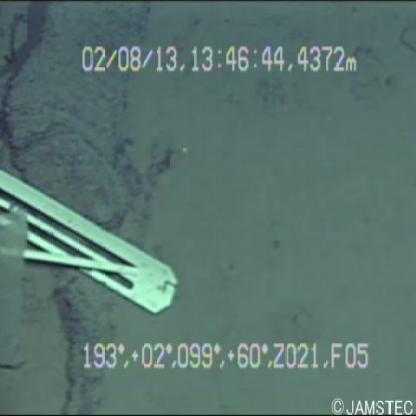Rác: (1, 118, 187, 307)
